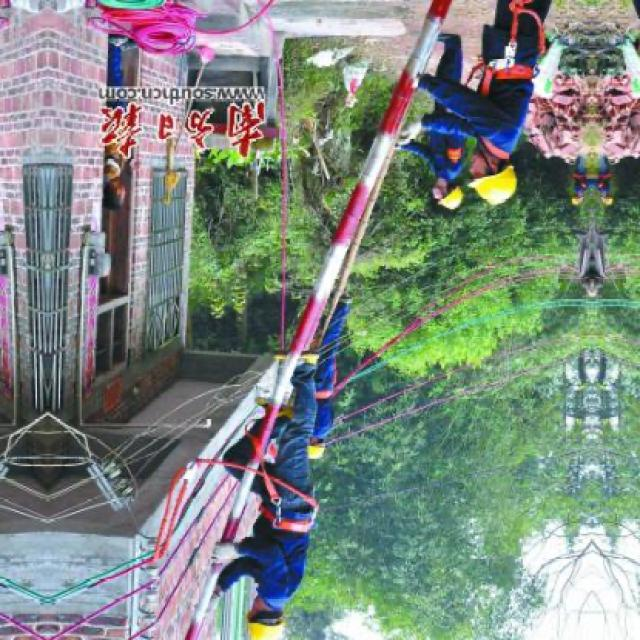con casco: (413, 167, 508, 263), (215, 585, 318, 640), (466, 136, 528, 218), (319, 412, 398, 474)
